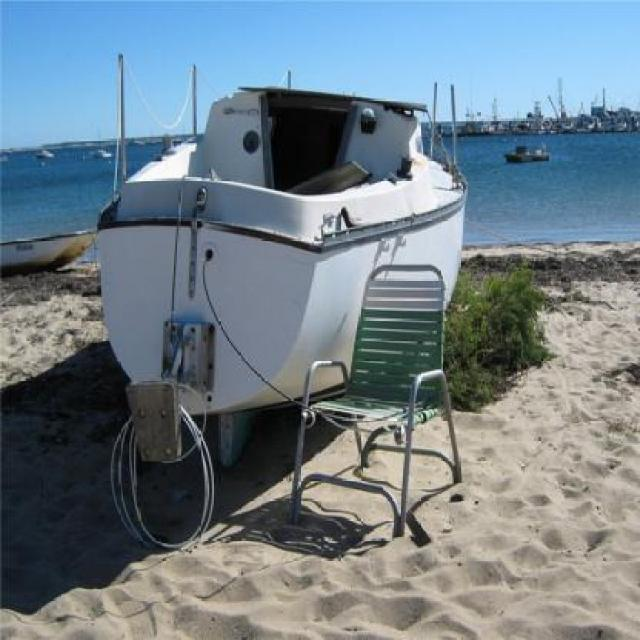ship: (87, 80, 465, 418), (1, 216, 99, 269), (502, 137, 552, 161)
